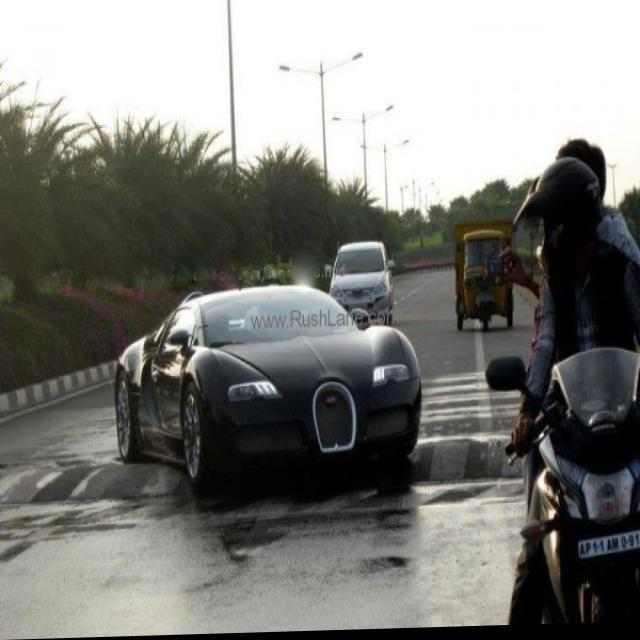licence: (576, 535, 637, 563)
